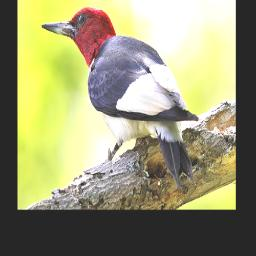Woodpecker: (43, 9, 199, 189)
